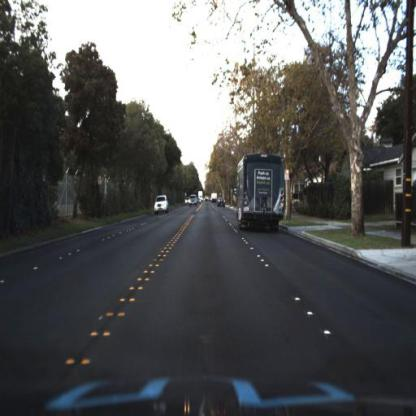car: (152, 193, 171, 214), (214, 190, 229, 210), (186, 192, 198, 209)
truck: (236, 150, 288, 231)
